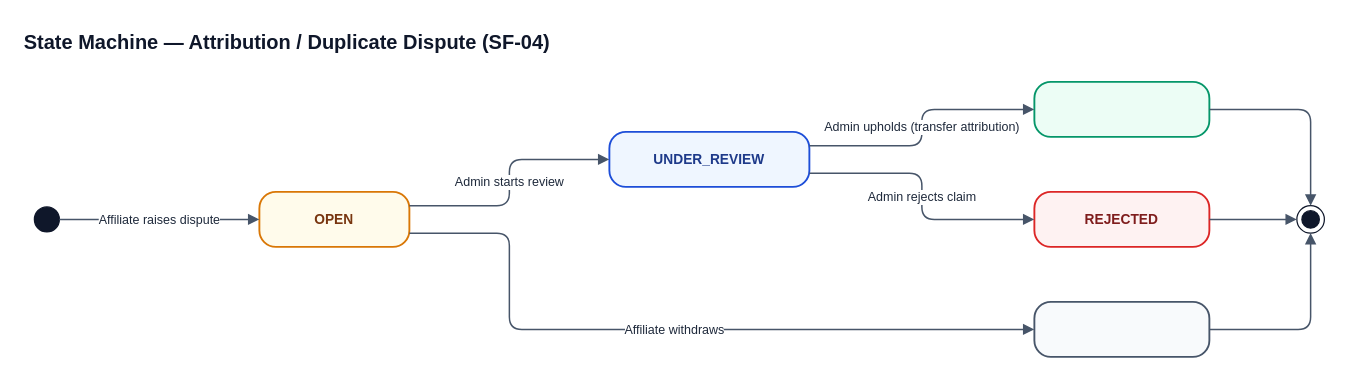
Some shapes in this 1368 by 379 pixel diagram are drawn without their labels. The centre of each missing label's shape, as x and y in pixels:
"UPHELD" belongs at point 1121,108.
"WITHDRAWN" belongs at point 1121,328.
